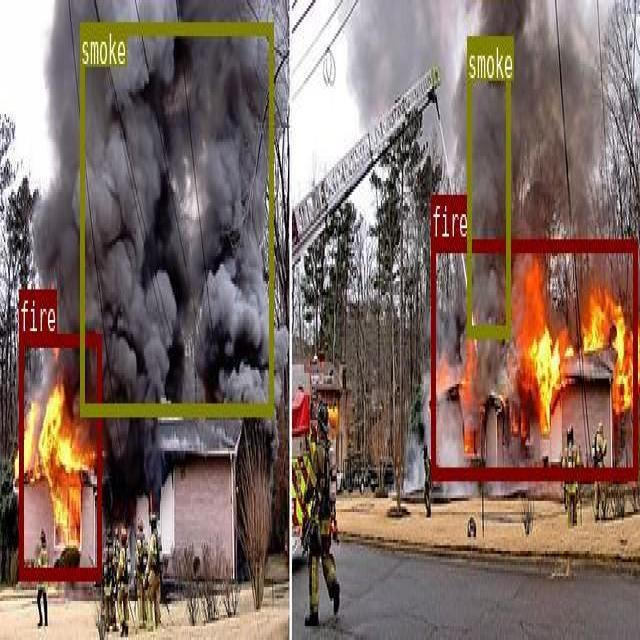fire: (431, 238, 636, 478), (18, 333, 100, 578)
smoke: (80, 22, 272, 412), (466, 35, 509, 334)
